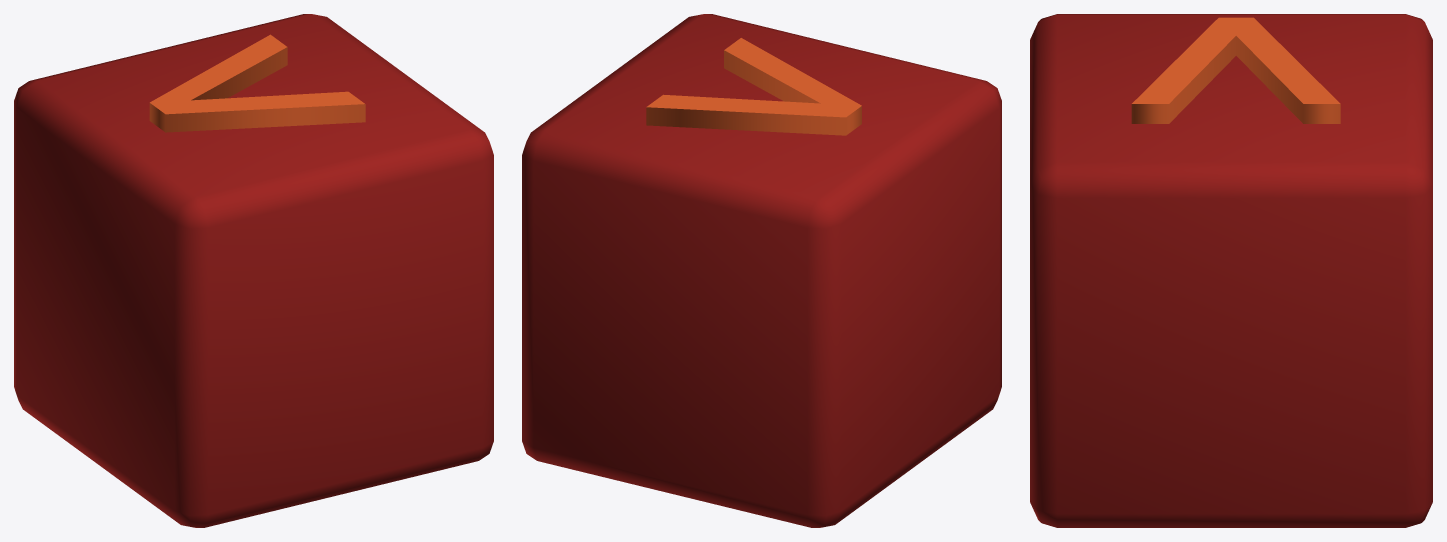
File: Cube Left.fbx
The picture shows the model from 3 angles, left to right: view 1: azimuth 30°, elevation 25°; view 2: azimuth 150°, elevation 25°; view 3: azimuth 270°, elevation 25°; orthographic projection. The views are drawn at different scales.
Visible parts, largest first — view 1: Left; view 2: Left; view 3: Left.
Part boxes in pixels (bbox=[...]): Left: bbox=[14, 14, 493, 527]; Left: bbox=[522, 14, 1001, 527]; Left: bbox=[1030, 14, 1432, 527].
Bounding box in the file's own units: 200 × 211 × 200.
